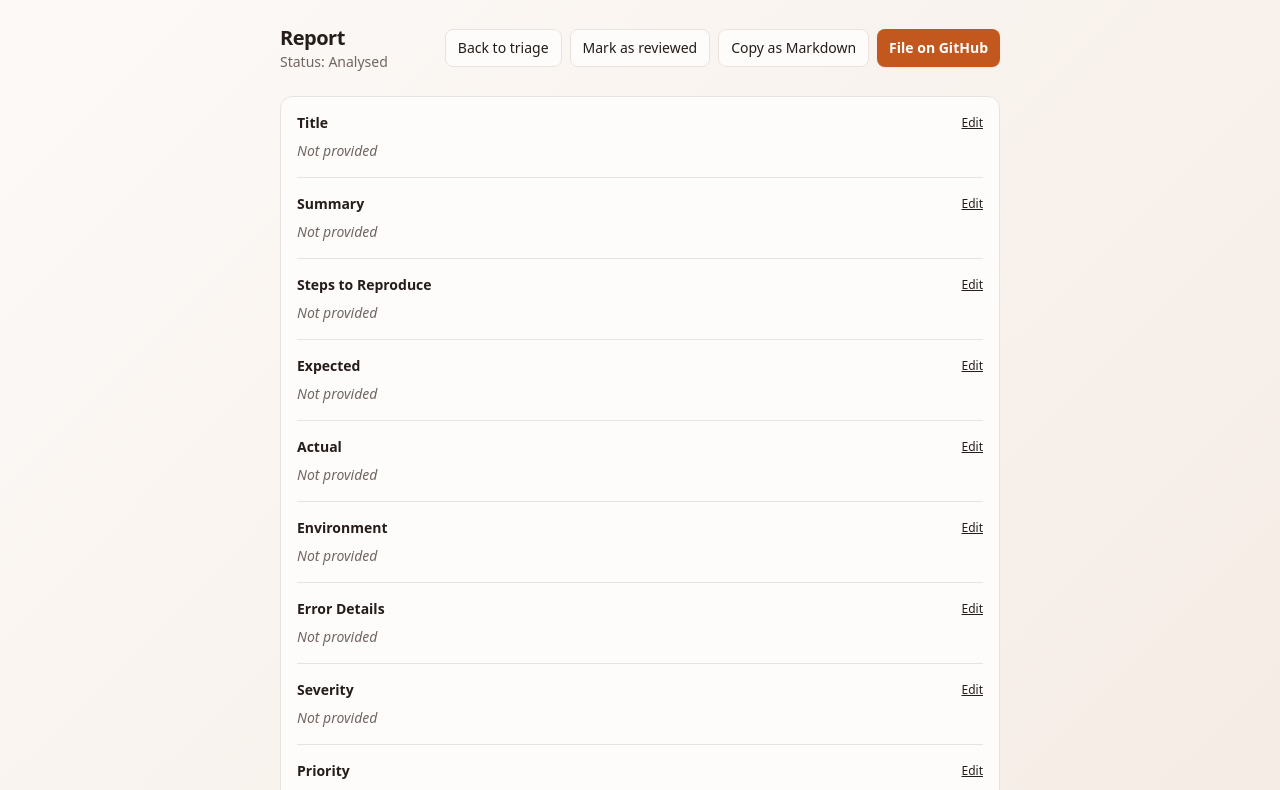
it: GeneratedReport › saves an edited section and shows the new value
This screenshot has width=1280, height=790.
Step 1. Click the button with aria-label "Edit Summary" → click(972, 204), box [962, 196, 983, 212]
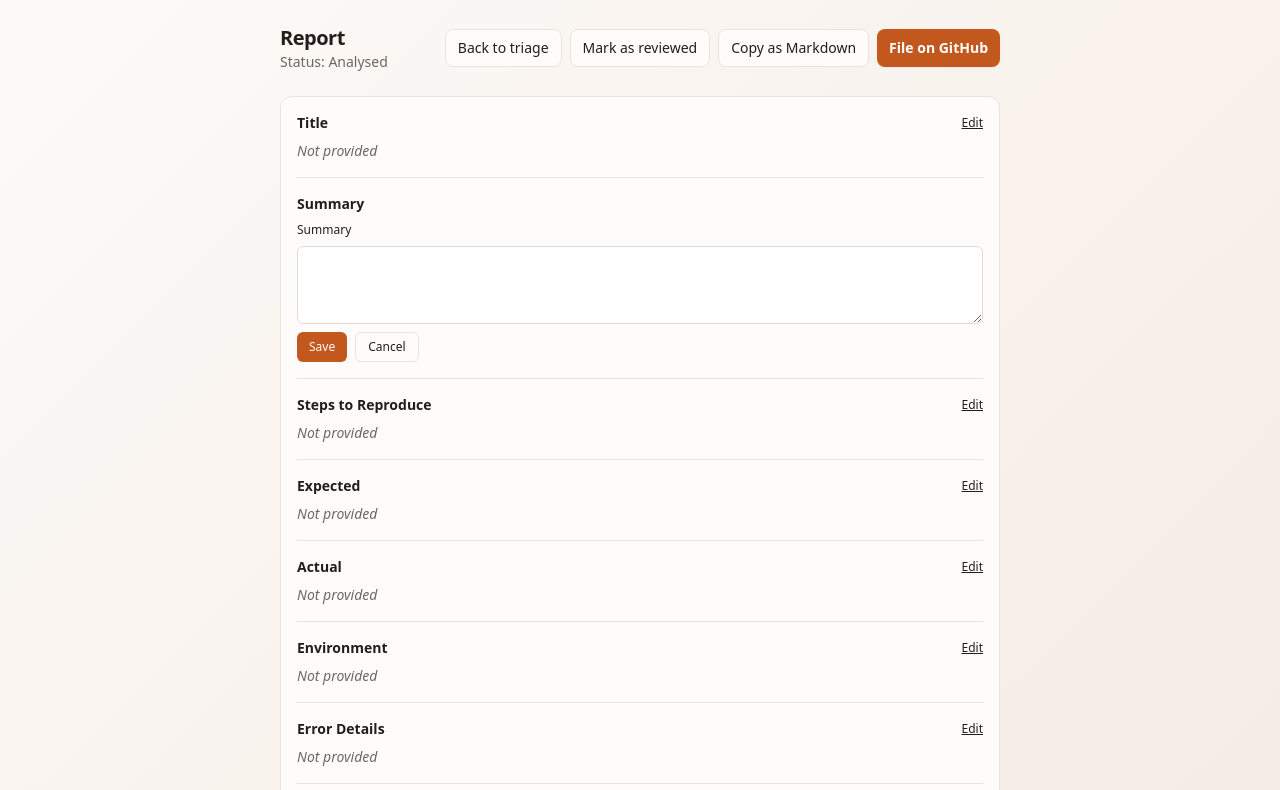
Step 2. Type "Login closes on a wrong password" into the text box labelled "Summary" → (640, 285), box [297, 246, 983, 324]
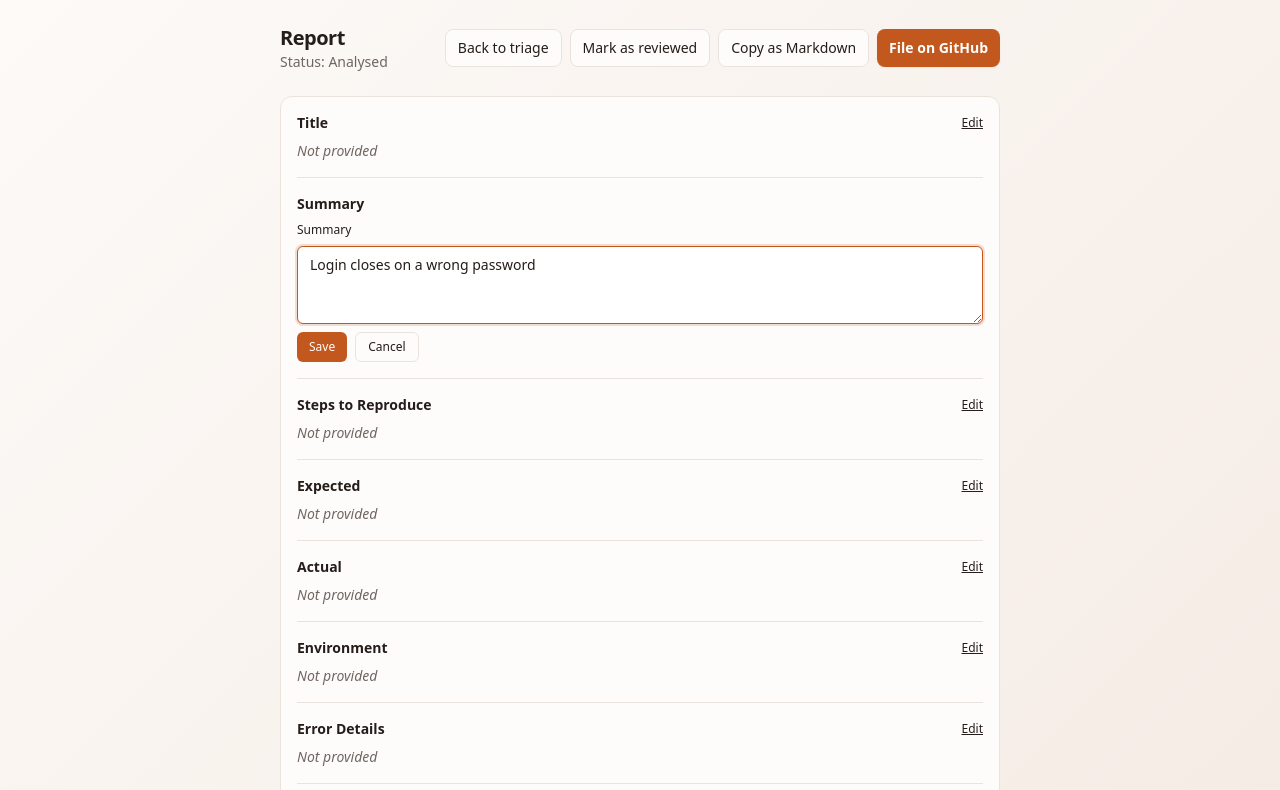
Step 3. Click the button "Save" → click(322, 347), box [297, 332, 347, 362]
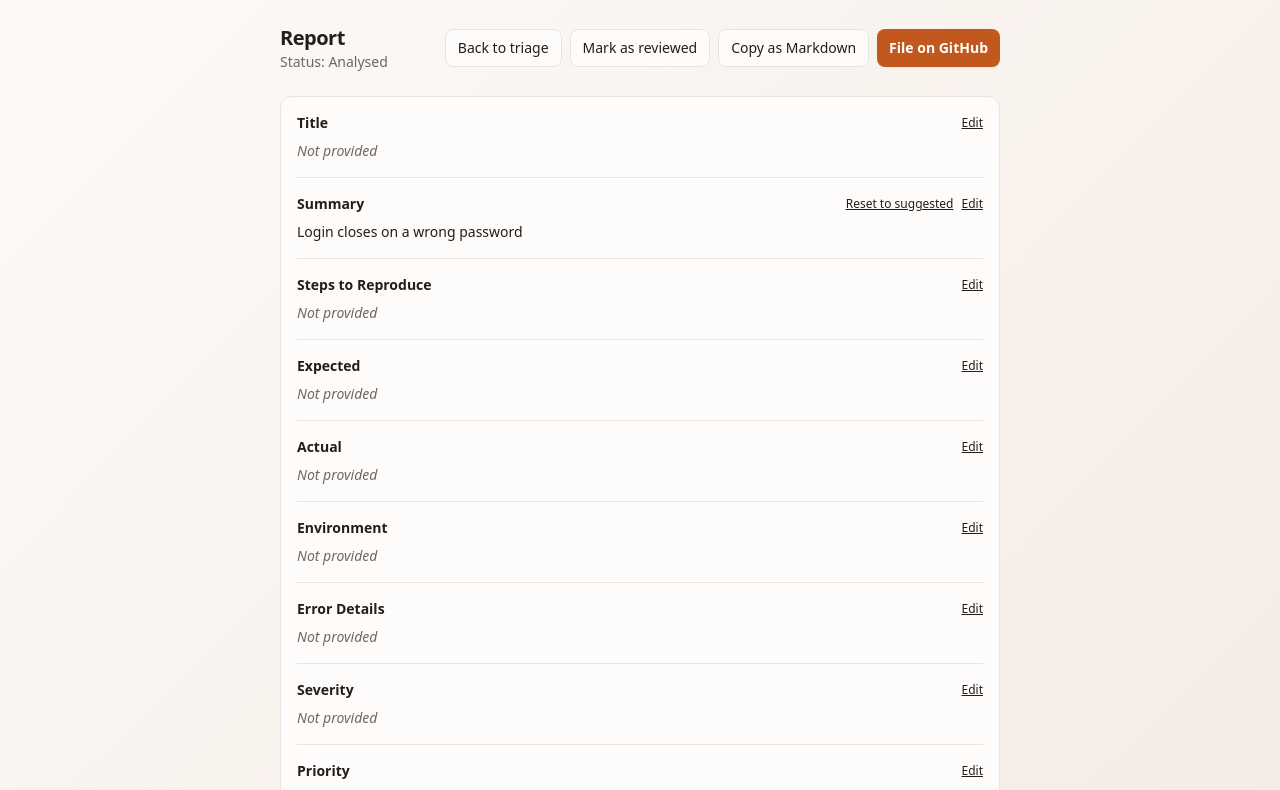
Expected: the text "Login closes on a wrong password" is shown, [297, 222, 523, 242]
